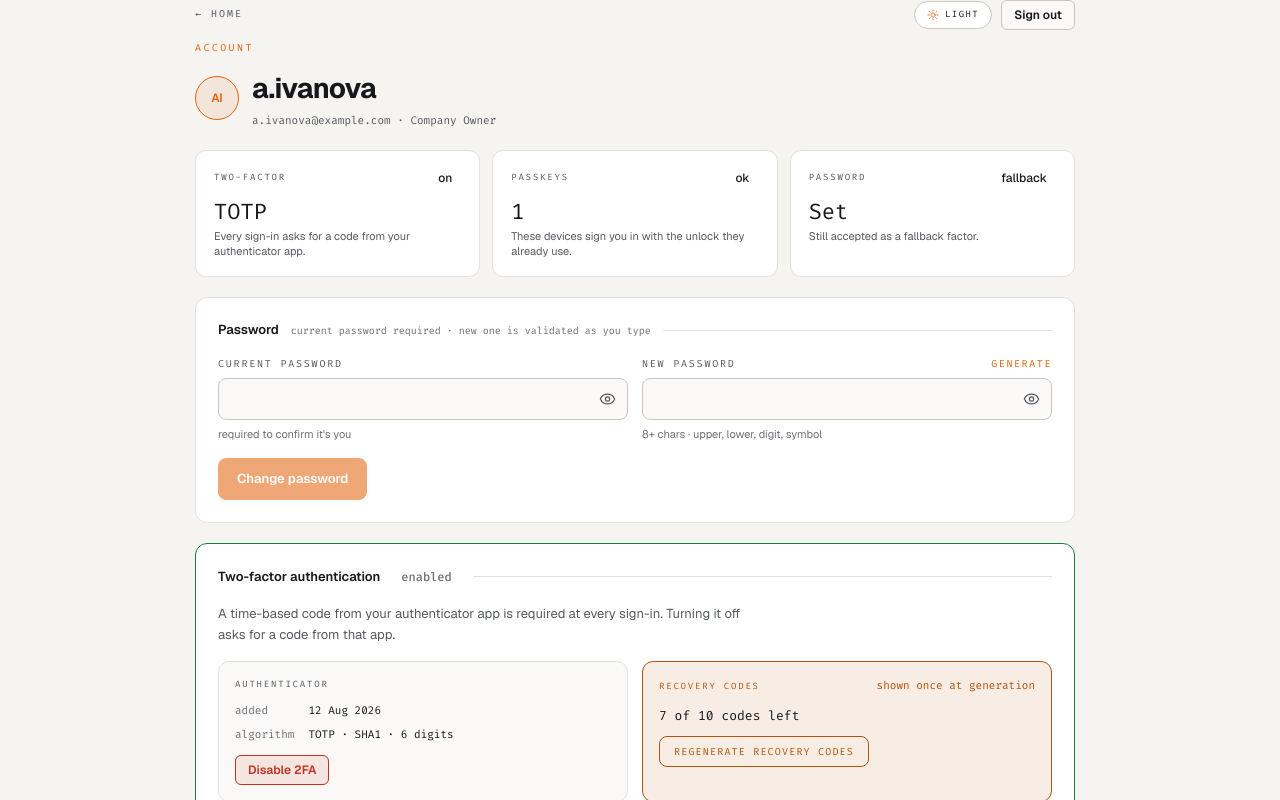
Test: AccountPage › opens the disable dialog from the two-factor card and submits a code through it
Click the button "Disable 2FA" at (282, 770), box [235,755,329,785]
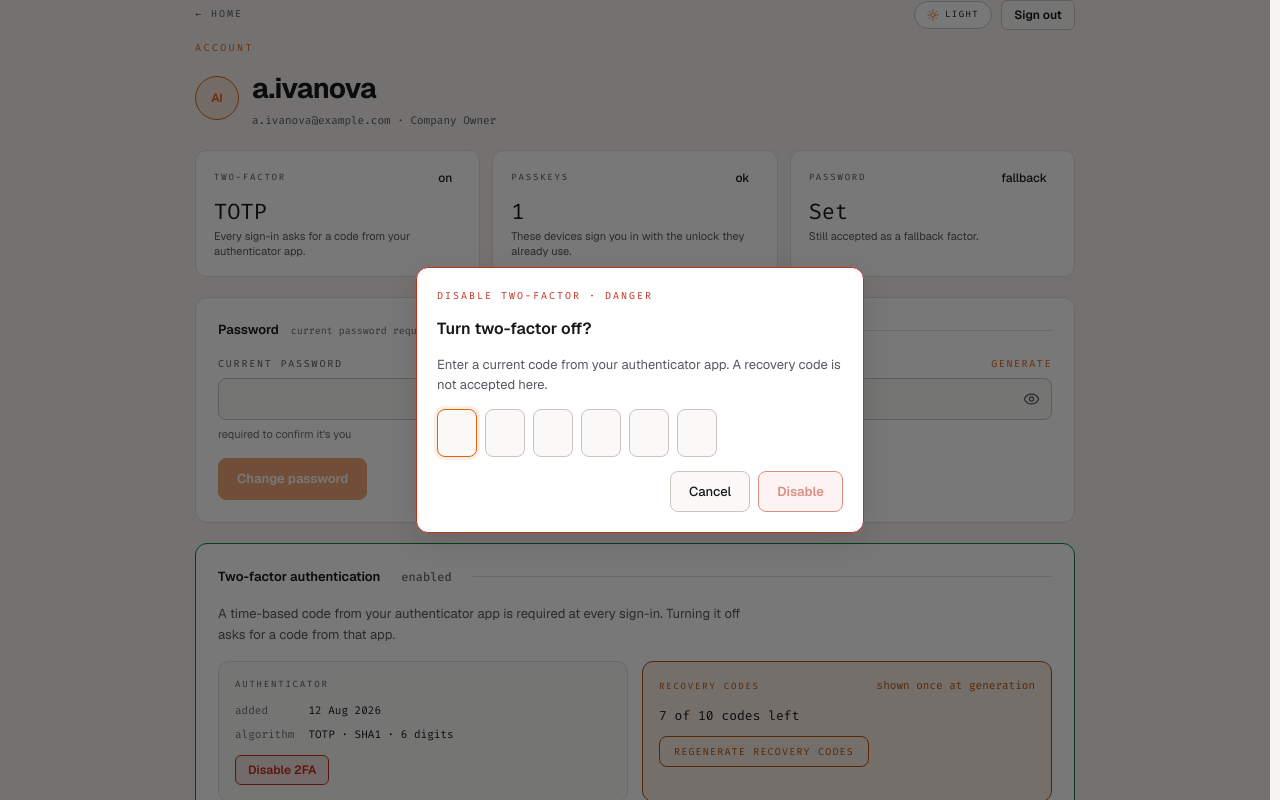
Type "123456" into the field named "digit 1" at (457, 433), box [437,409,477,457]
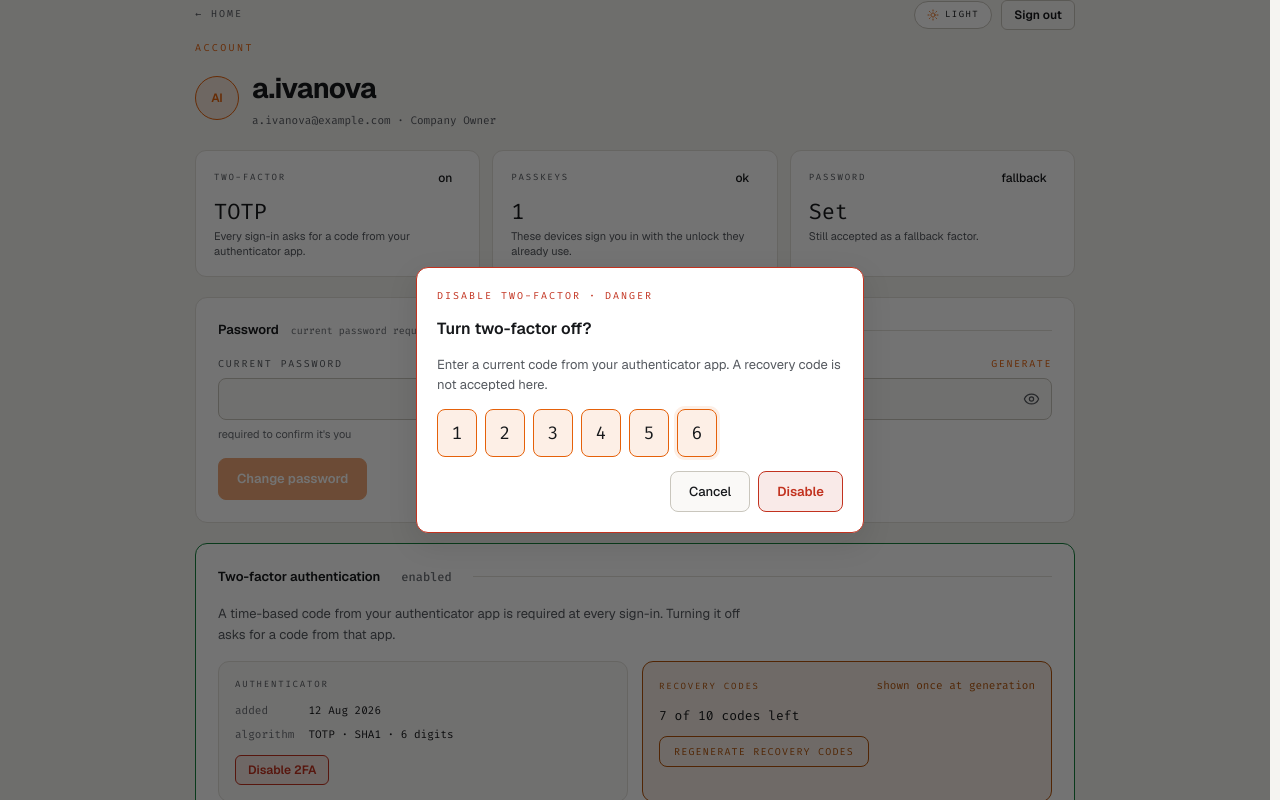
Click the button "Disable" at (801, 492), box [758,471,843,512]
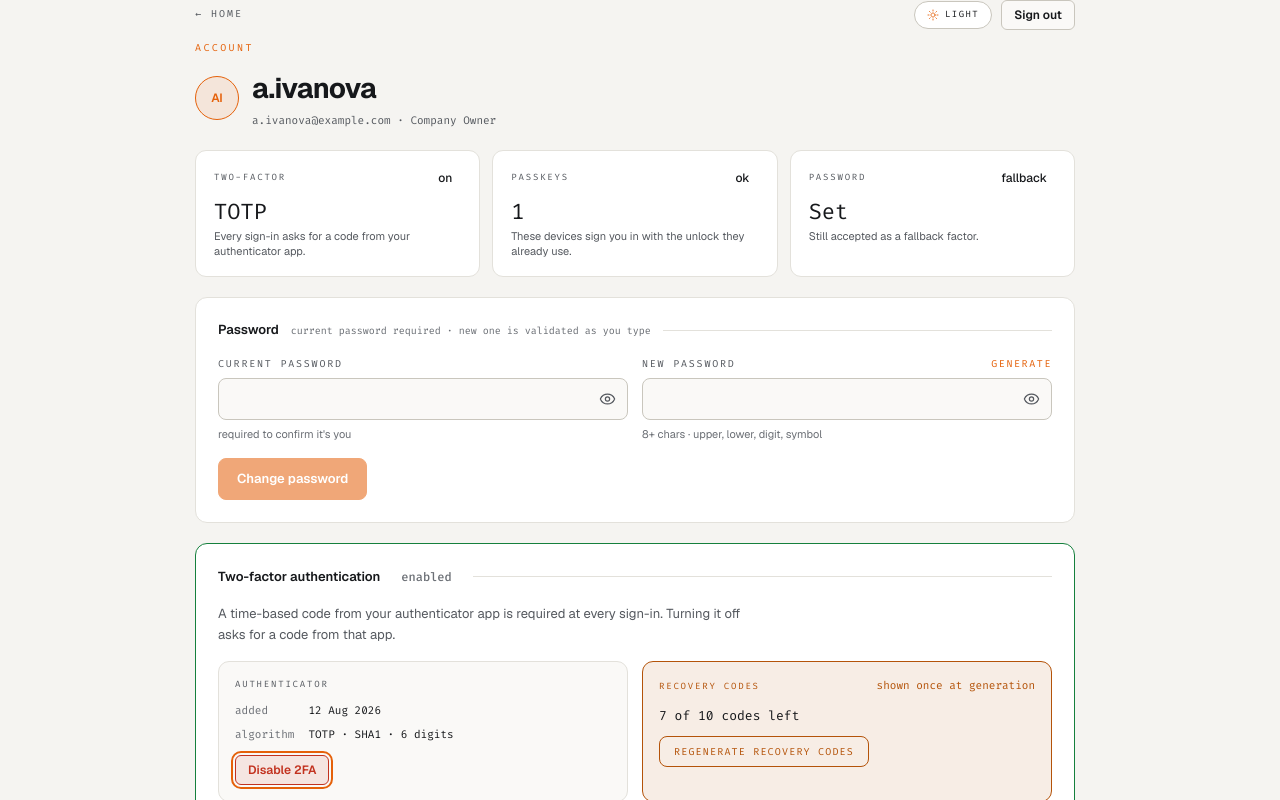
Check: the heading "Turn two-factor off?" is gone
